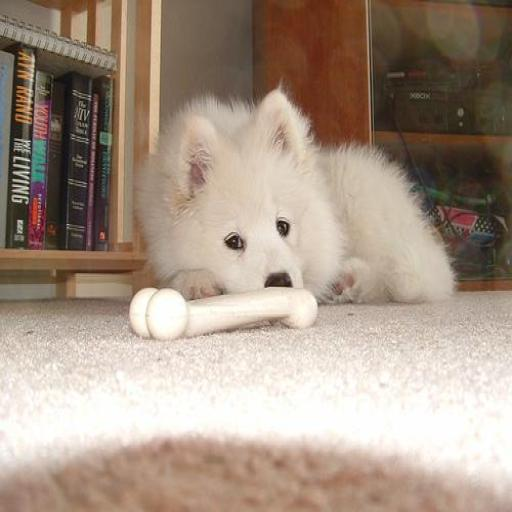dog_face: (179, 108, 320, 308)
